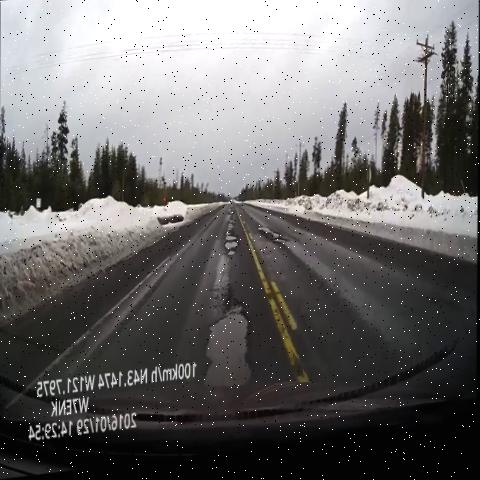pothole: (196, 296, 263, 400), (251, 220, 294, 264), (224, 202, 243, 272)
